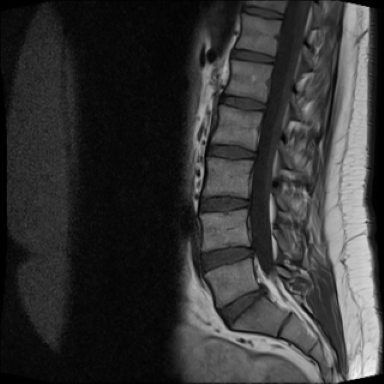Lumbar Disc Bulge (LDB): (212, 276, 278, 331), (196, 234, 268, 275), (196, 188, 255, 224)
Normal IVD: (200, 135, 261, 165), (215, 86, 271, 117), (228, 43, 279, 68), (243, 1, 287, 22)
Spinal Stenosis (SS): (239, 234, 262, 264), (248, 276, 269, 303)
